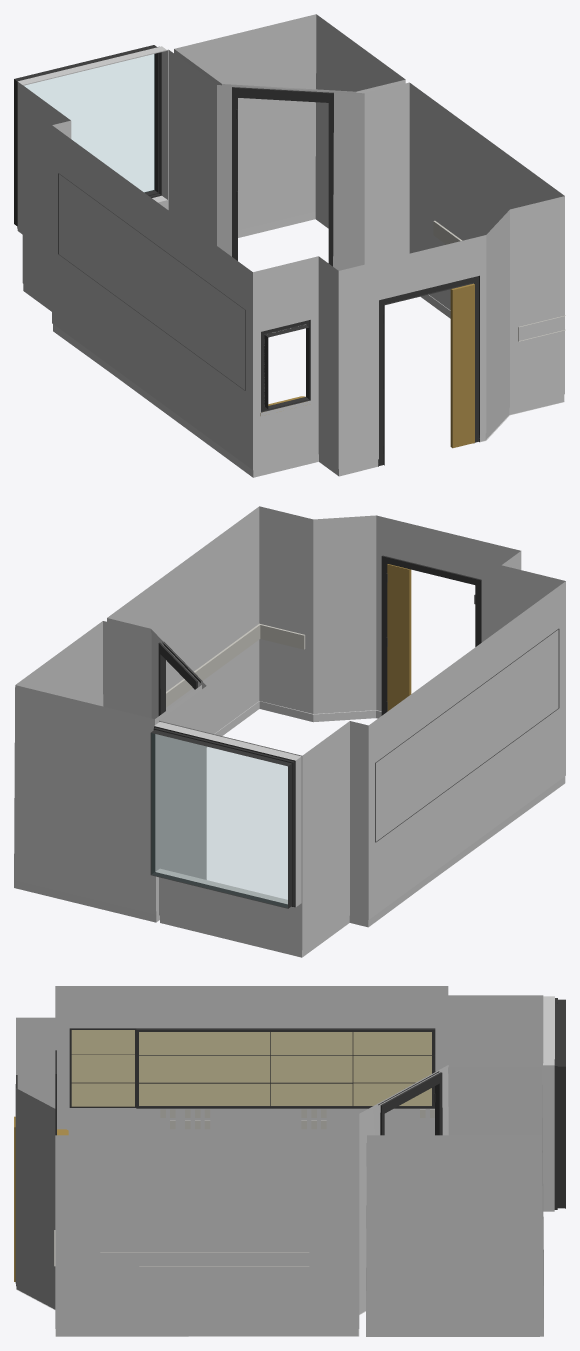
File: Room_Walls.fbx
3 renders of one model, top to bottom at view 1: azimuth 30°, elevation 25°; view 2: azimuth 150°, elevation 25°; view 3: azimuth 270°, elevation 25°, orthographic. The views are drawn at different scales.
Parts seen in each view (by area): view 1: Walls; view 2: Walls; view 3: Walls.
Boxes of the visible parts, x1,y1,x2,y2 form: Walls: (14,14,565,477); Walls: (14,506,565,957); Walls: (14,986,565,1336).
Bounding box in the file's own units: 14.21 × 8.93 × 22.16.
